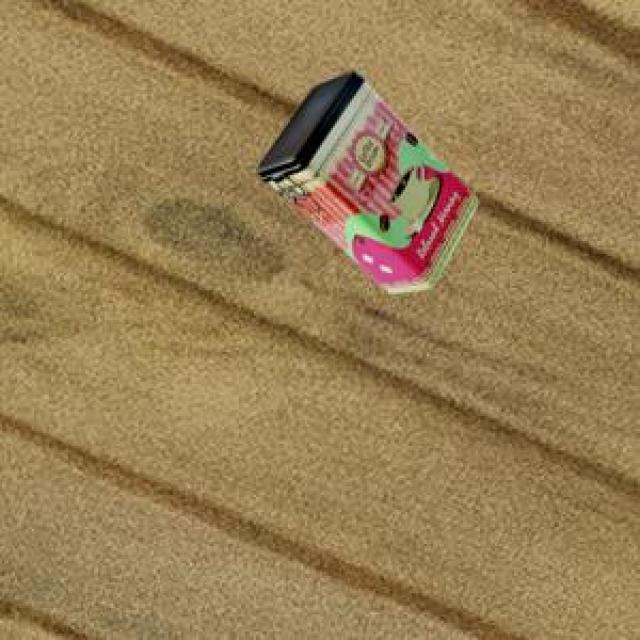logam: (253, 67, 475, 291)
